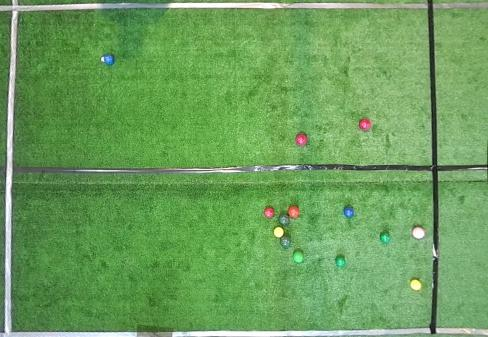blue: (344, 207, 354, 217), (104, 54, 114, 64)
green: (293, 251, 304, 263), (280, 236, 291, 246), (278, 215, 289, 225), (380, 232, 390, 242), (335, 257, 345, 267)
red: (413, 227, 425, 239), (288, 206, 299, 218), (296, 134, 307, 145), (359, 119, 370, 130), (264, 207, 274, 218)
vline: (427, 0, 487, 336), (0, 0, 19, 336)
white: (101, 57, 104, 62)
yellow: (410, 279, 422, 290), (274, 227, 284, 238)
